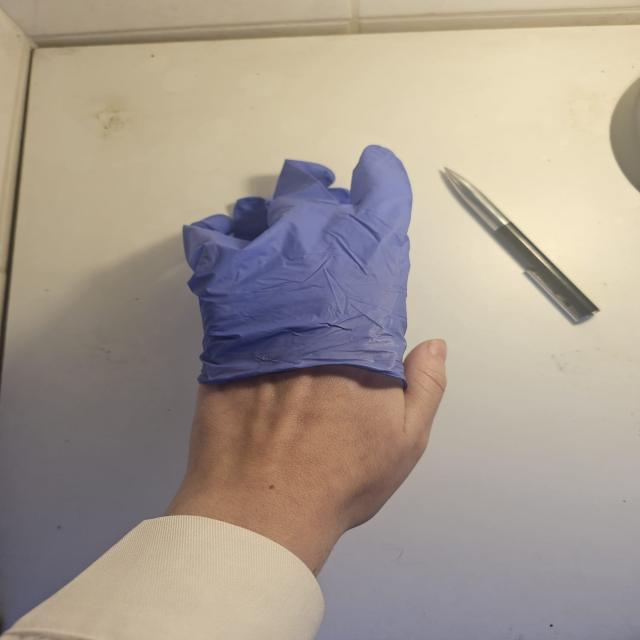glove_partial: (180, 144, 449, 526)
